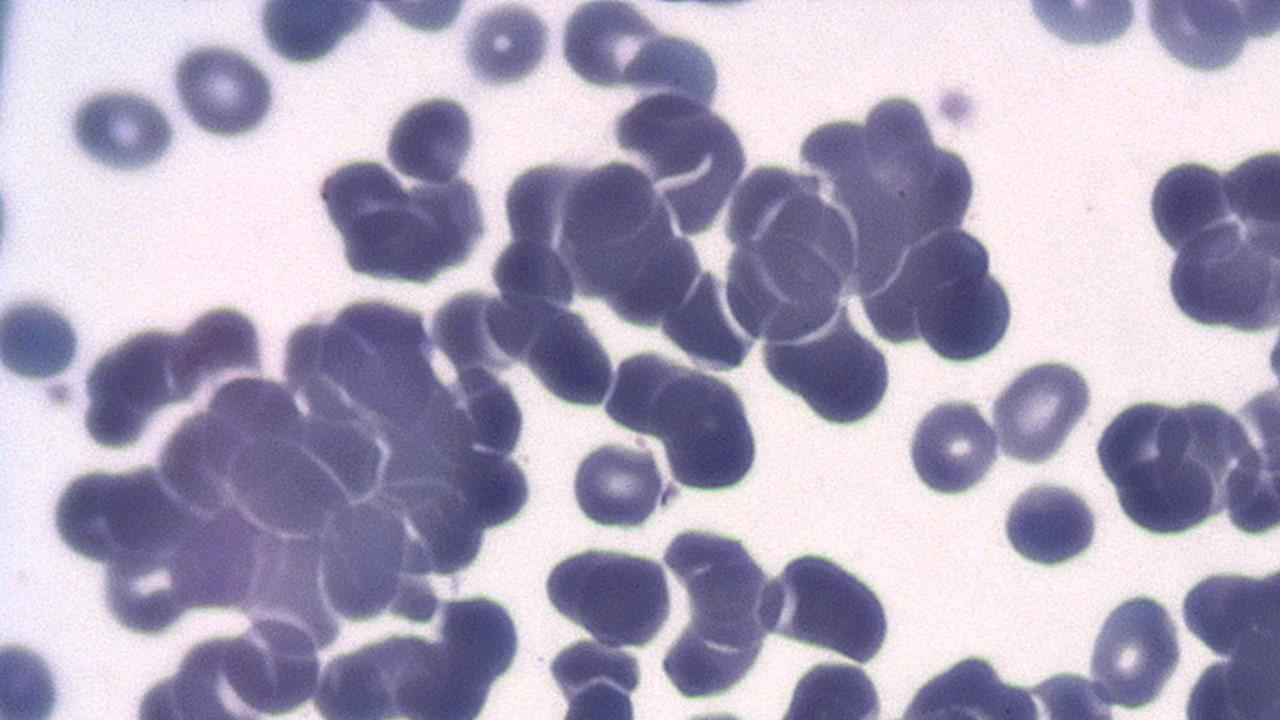Platelets: (989, 353, 1101, 466), (59, 79, 181, 177), (168, 39, 281, 141), (900, 394, 1002, 498), (995, 479, 1103, 572), (382, 91, 483, 185), (565, 436, 666, 530), (0, 287, 85, 387), (0, 628, 75, 718), (930, 79, 985, 134), (0, 163, 22, 281)
RBC: (653, 368, 766, 495), (1080, 582, 1186, 712), (988, 356, 1097, 466), (168, 36, 280, 142), (316, 498, 407, 625), (903, 393, 1000, 500), (1219, 377, 1279, 545), (565, 435, 666, 531), (526, 305, 616, 409), (774, 655, 894, 715)
WBC: (0, 0, 1111, 720), (742, 26, 1272, 720), (2, 284, 629, 714), (828, 340, 1274, 720), (1063, 90, 1280, 581), (310, 89, 501, 296), (1133, 132, 1279, 345), (1088, 379, 1272, 543), (998, 4, 1280, 80), (759, 544, 901, 664), (538, 544, 674, 652), (884, 650, 1087, 718), (656, 366, 764, 493), (996, 479, 1104, 574), (0, 284, 88, 390), (251, 1, 388, 68)
